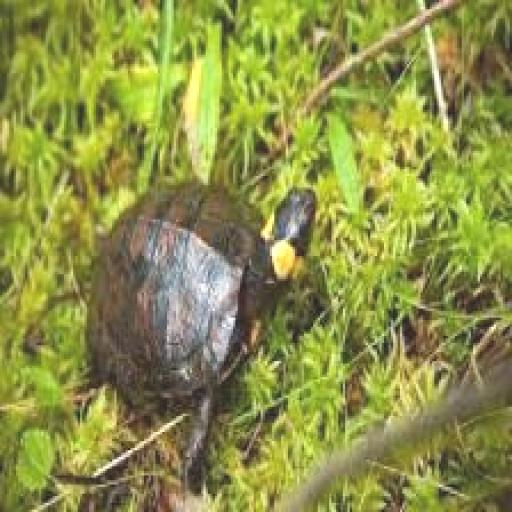turtle: (84, 176, 319, 405)
